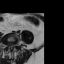CCS_normal: (10, 43, 12, 51)
LFS_severe_stenosis: (13, 43, 15, 47)
LLS_severe_stenosis: (12, 43, 13, 47)
RFS_severe_stenosis: (7, 43, 9, 48)
RLS_severe_stenosis: (9, 43, 10, 48)
